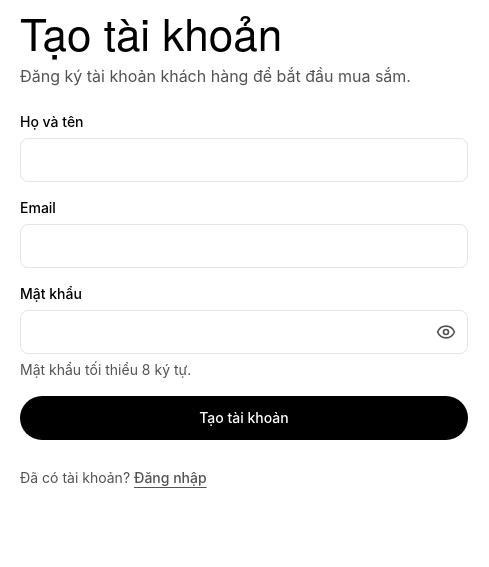
RegisterPage › shows a Vietnamese retry message when the request has no response
Type "Người mua" into the field labelled "Họ và tên".
click(244, 160); type("Người mua")  # box [20,138,468,182]
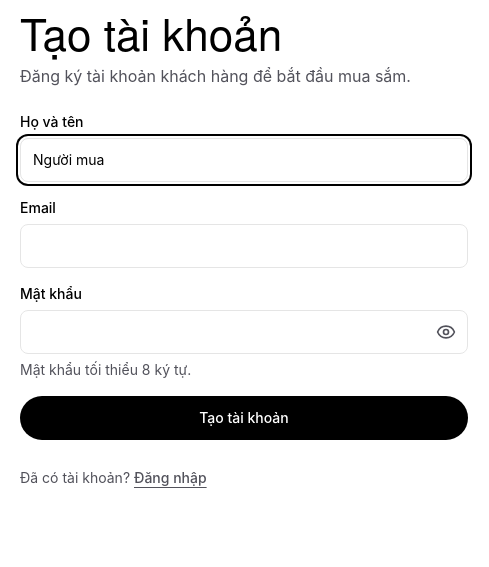
Type "buyer@example.com" into the field labelled "Email".
click(244, 246); type("buyer@example.com")  # box [20,224,468,268]
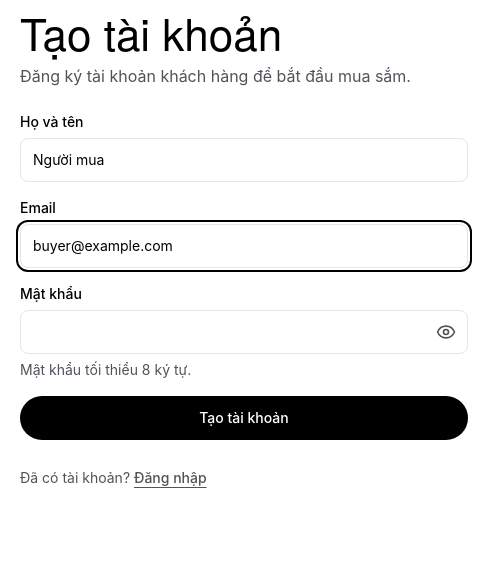
Type "secret123" into the password field labelled "Mật khẩu".
click(244, 332); type("secret123")  # box [20,310,468,354]
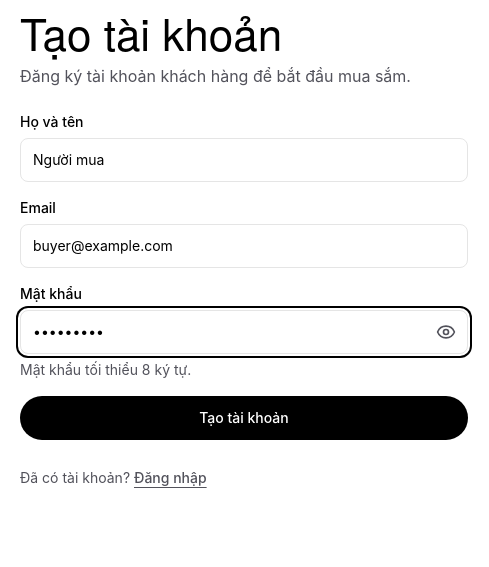
Click the button "Tạo tài khoản".
click(244, 418)  # box [20,396,468,440]
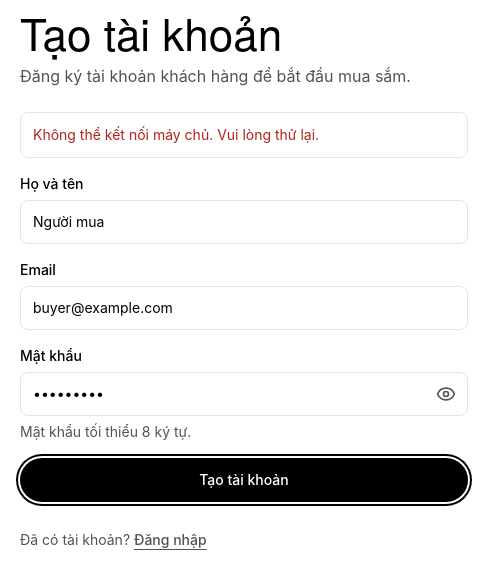
Result: the text "Không thể kết nối máy chủ. Vui lòng thử lại." is shown at [20,112,468,158]
